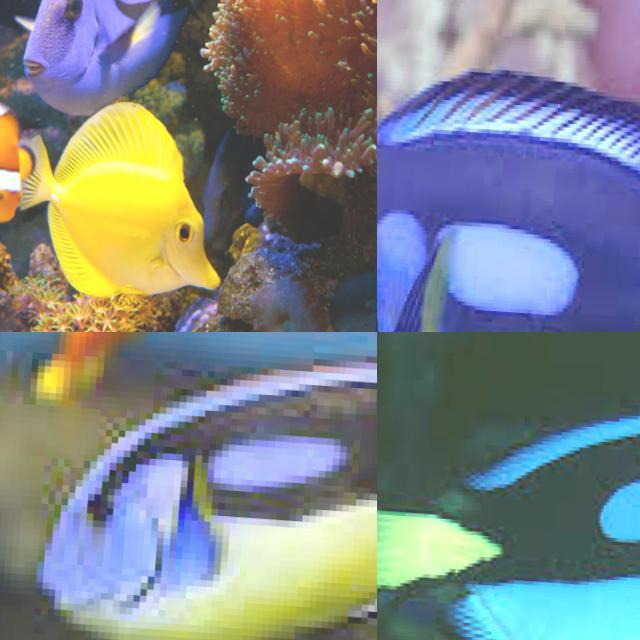BlueTang: (37, 369, 377, 640), (377, 74, 640, 332), (377, 417, 640, 640), (0, 0, 187, 107)
ButterflyFish: (33, 100, 222, 297)
ClownFish: (0, 108, 33, 225)
